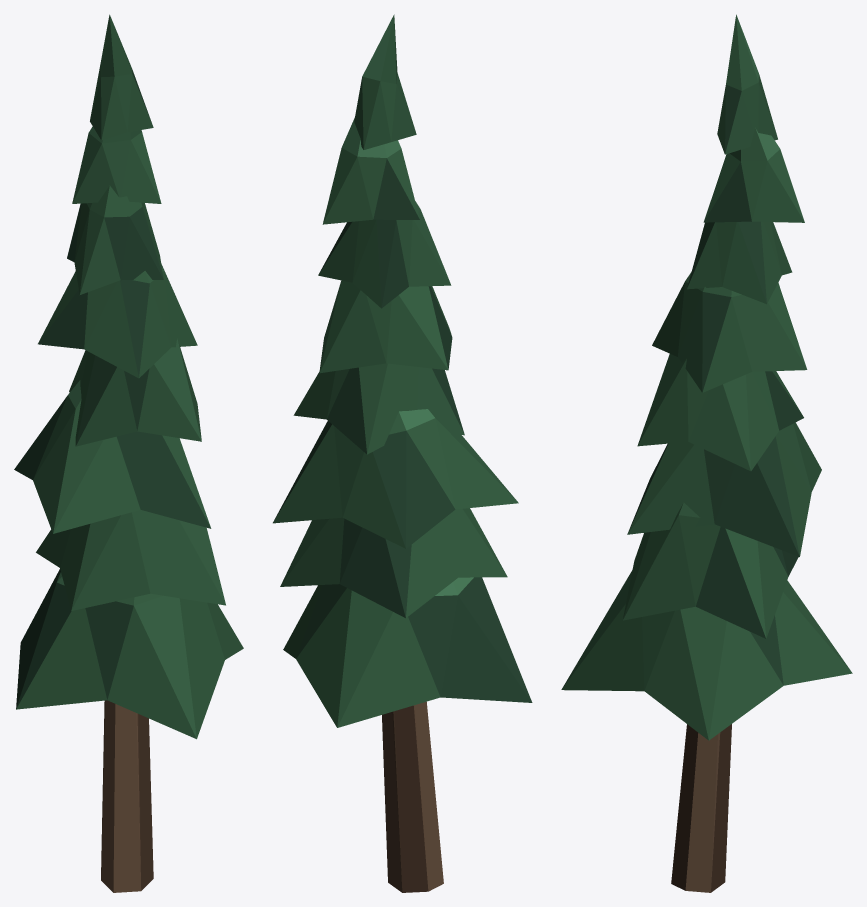
File: tree_cedar_b.fbx
The picture shows the model from 3 angles, left to right: view 1: azimuth 30°, elevation 25°; view 2: azimuth 150°, elevation 25°; view 3: azimuth 270°, elevation 25°; orthographic projection. The views are drawn at different scales.
Parts seen in each view (by area): view 1: tree_cedar_b; view 2: tree_cedar_b; view 3: tree_cedar_b.
Boxes of the visible parts, x1,y1,x2,y2 form: tree_cedar_b: (14, 14, 243, 892); tree_cedar_b: (273, 14, 532, 892); tree_cedar_b: (561, 14, 852, 892).
Size of the model in its own units: 3.7 by 12.88 by 3.91.
